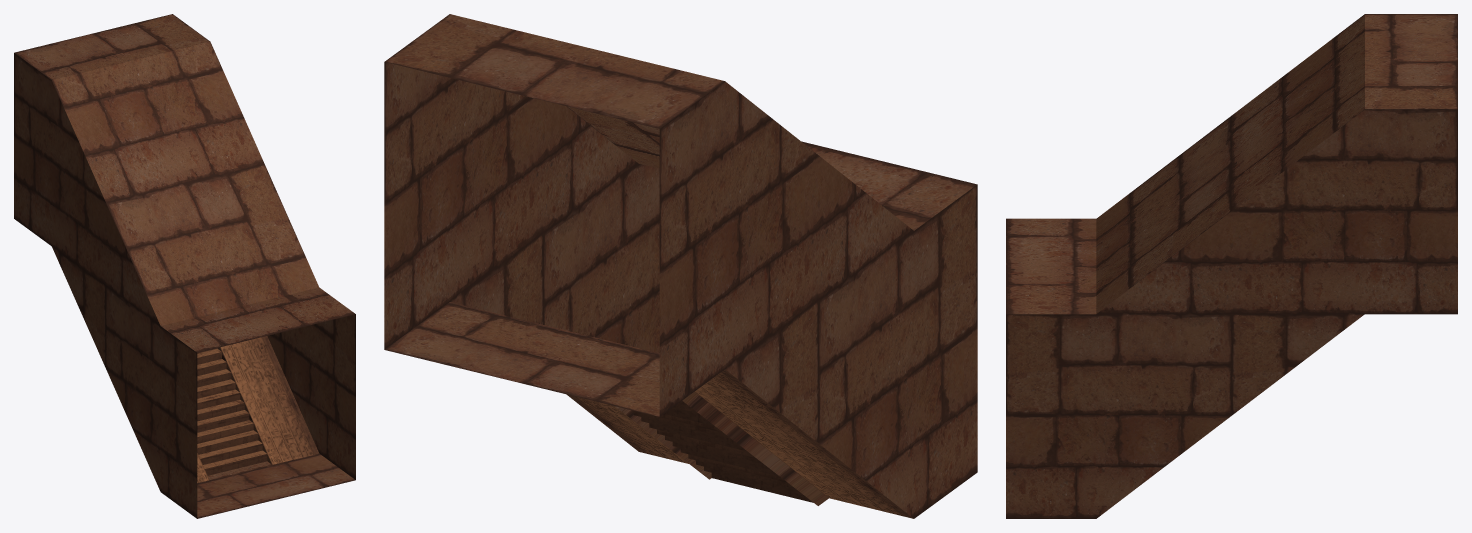
The model's file is Corridor_Stairs_1x2.fbx.
The picture shows the model from 3 angles, left to right: view 1: azimuth 30°, elevation 25°; view 2: azimuth 150°, elevation 25°; view 3: azimuth 270°, elevation 25°; orthographic projection. The views are drawn at different scales.
Visible parts, largest first — view 1: Corridor_Stairs_1x2; view 2: Corridor_Stairs_1x2; view 3: Corridor_Stairs_1x2.
Boxes of the visible parts, x1,y1,x2,y2 form: Corridor_Stairs_1x2: [14, 14, 355, 518]; Corridor_Stairs_1x2: [384, 14, 977, 518]; Corridor_Stairs_1x2: [1006, 14, 1457, 518].
Bounding box in the file's own units: 66.08 × 132 × 132.
